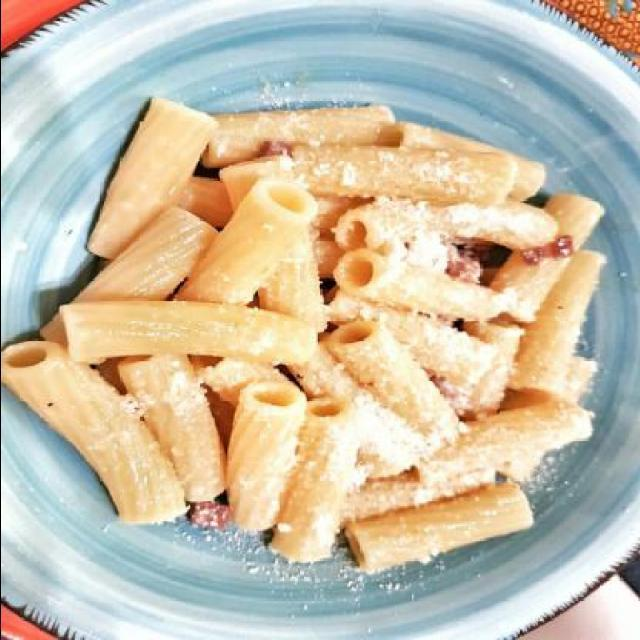Pasta with carbonara sauce: (15, 77, 628, 594)
